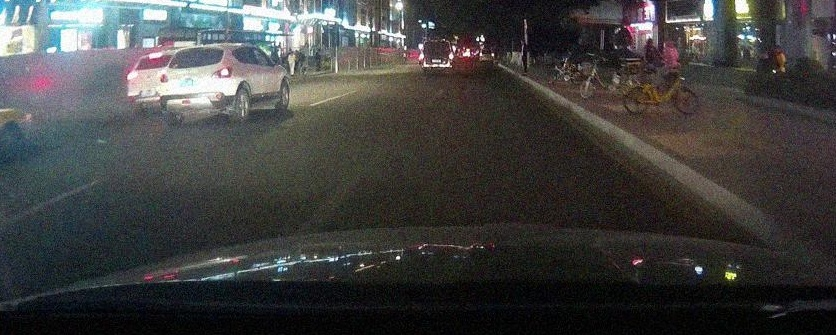L_light: (160, 72, 169, 83), (419, 54, 424, 60)
R_light: (211, 66, 233, 79), (449, 53, 453, 60)
T_light: (191, 48, 202, 51), (433, 42, 439, 44)
night-no: (419, 40, 454, 74)
night-right: (158, 43, 235, 125)
